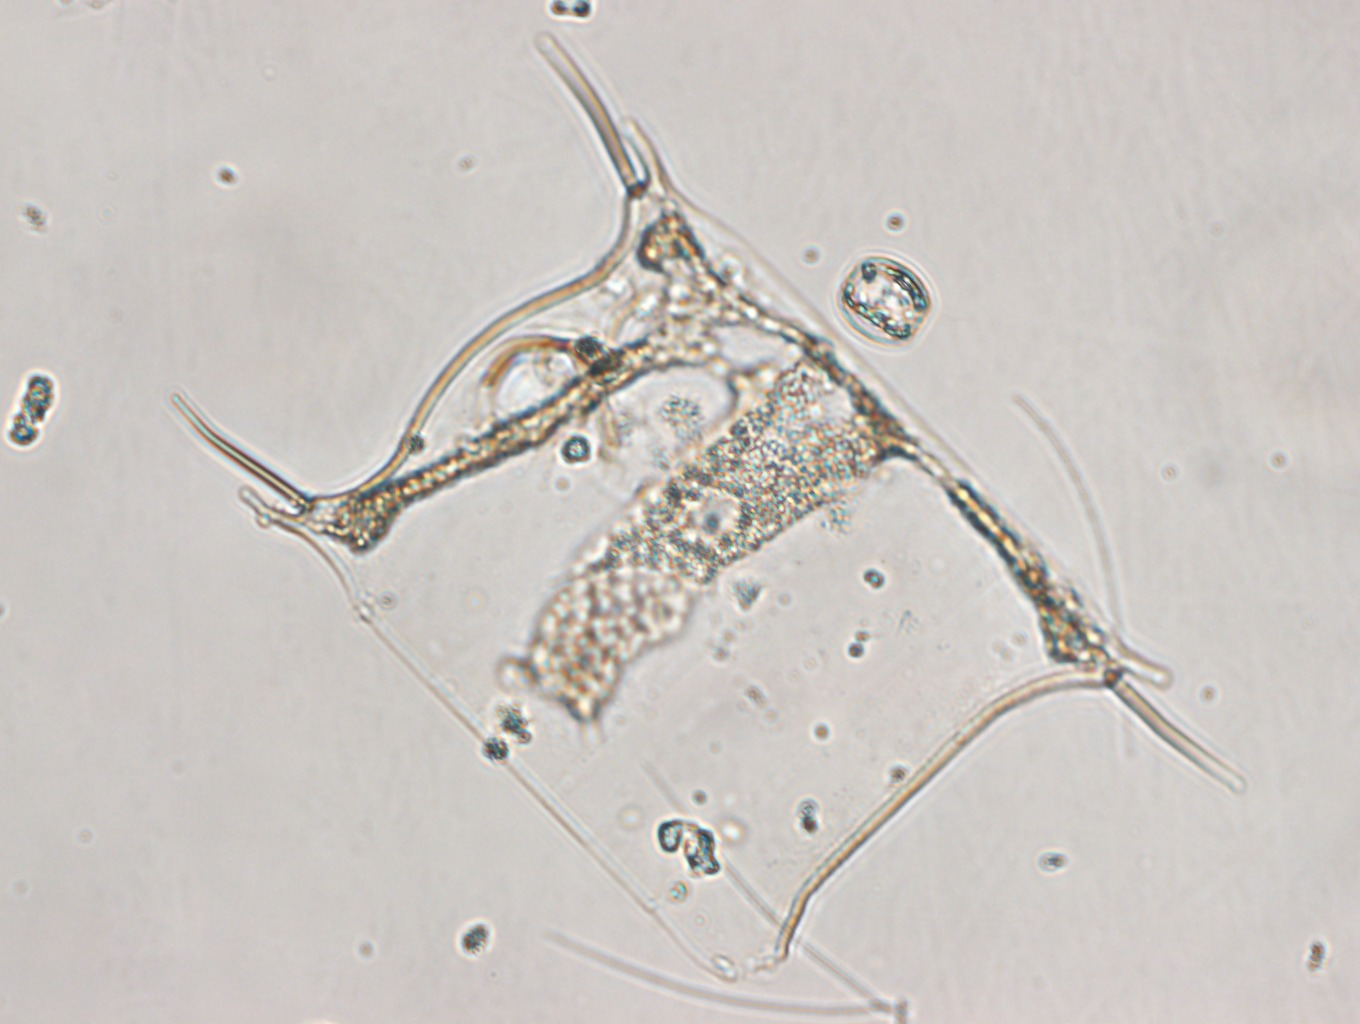biddulphia: (167, 27, 1249, 983)
